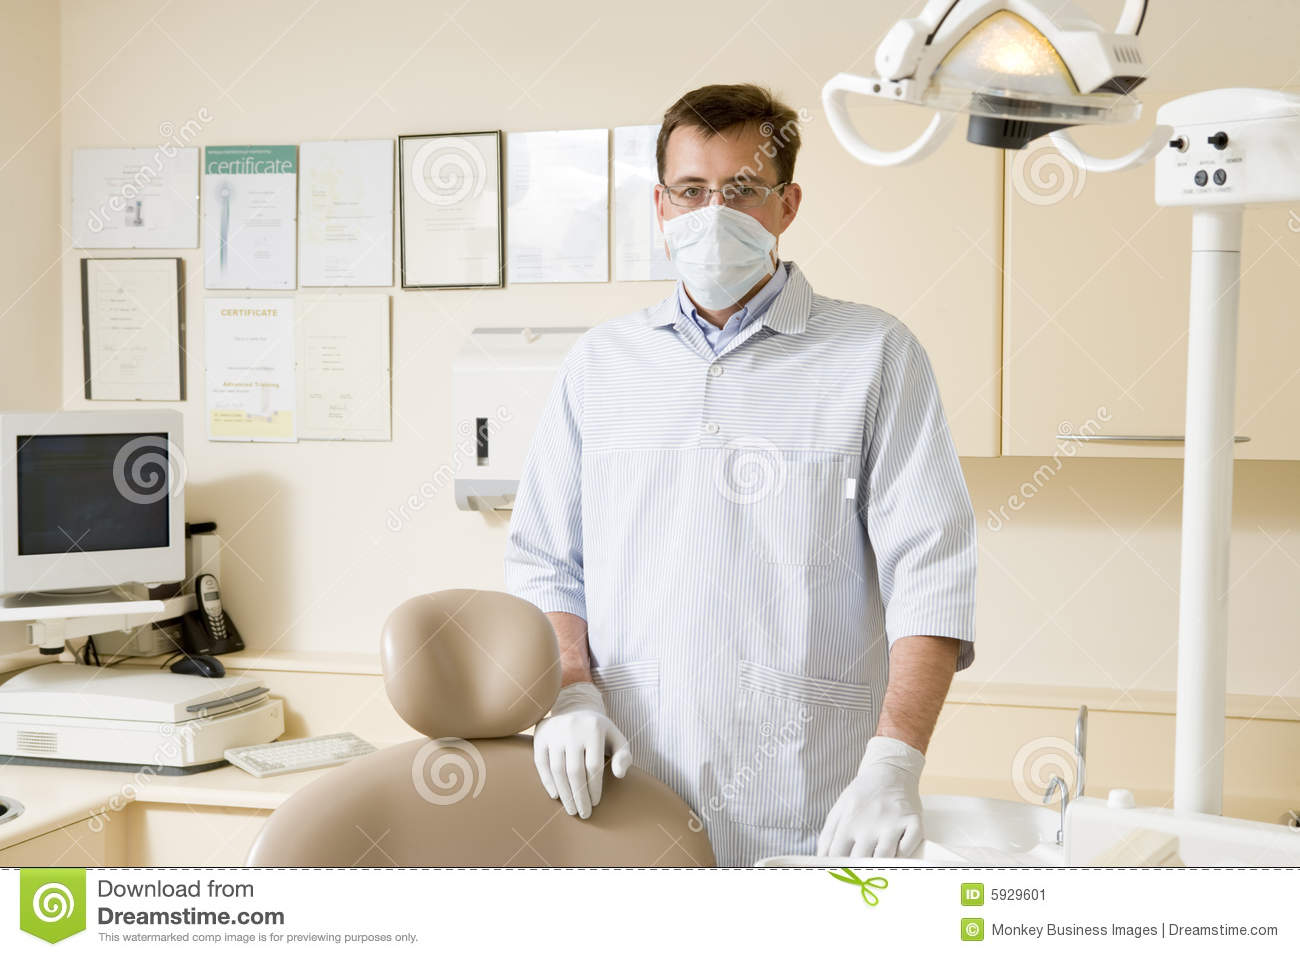mask: (660, 194, 788, 310)
